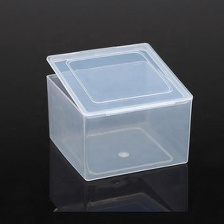plastic_box: (35, 35, 200, 187)
